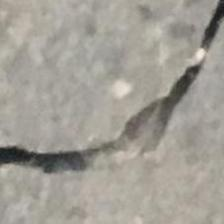Crack: (2, 0, 224, 197)
